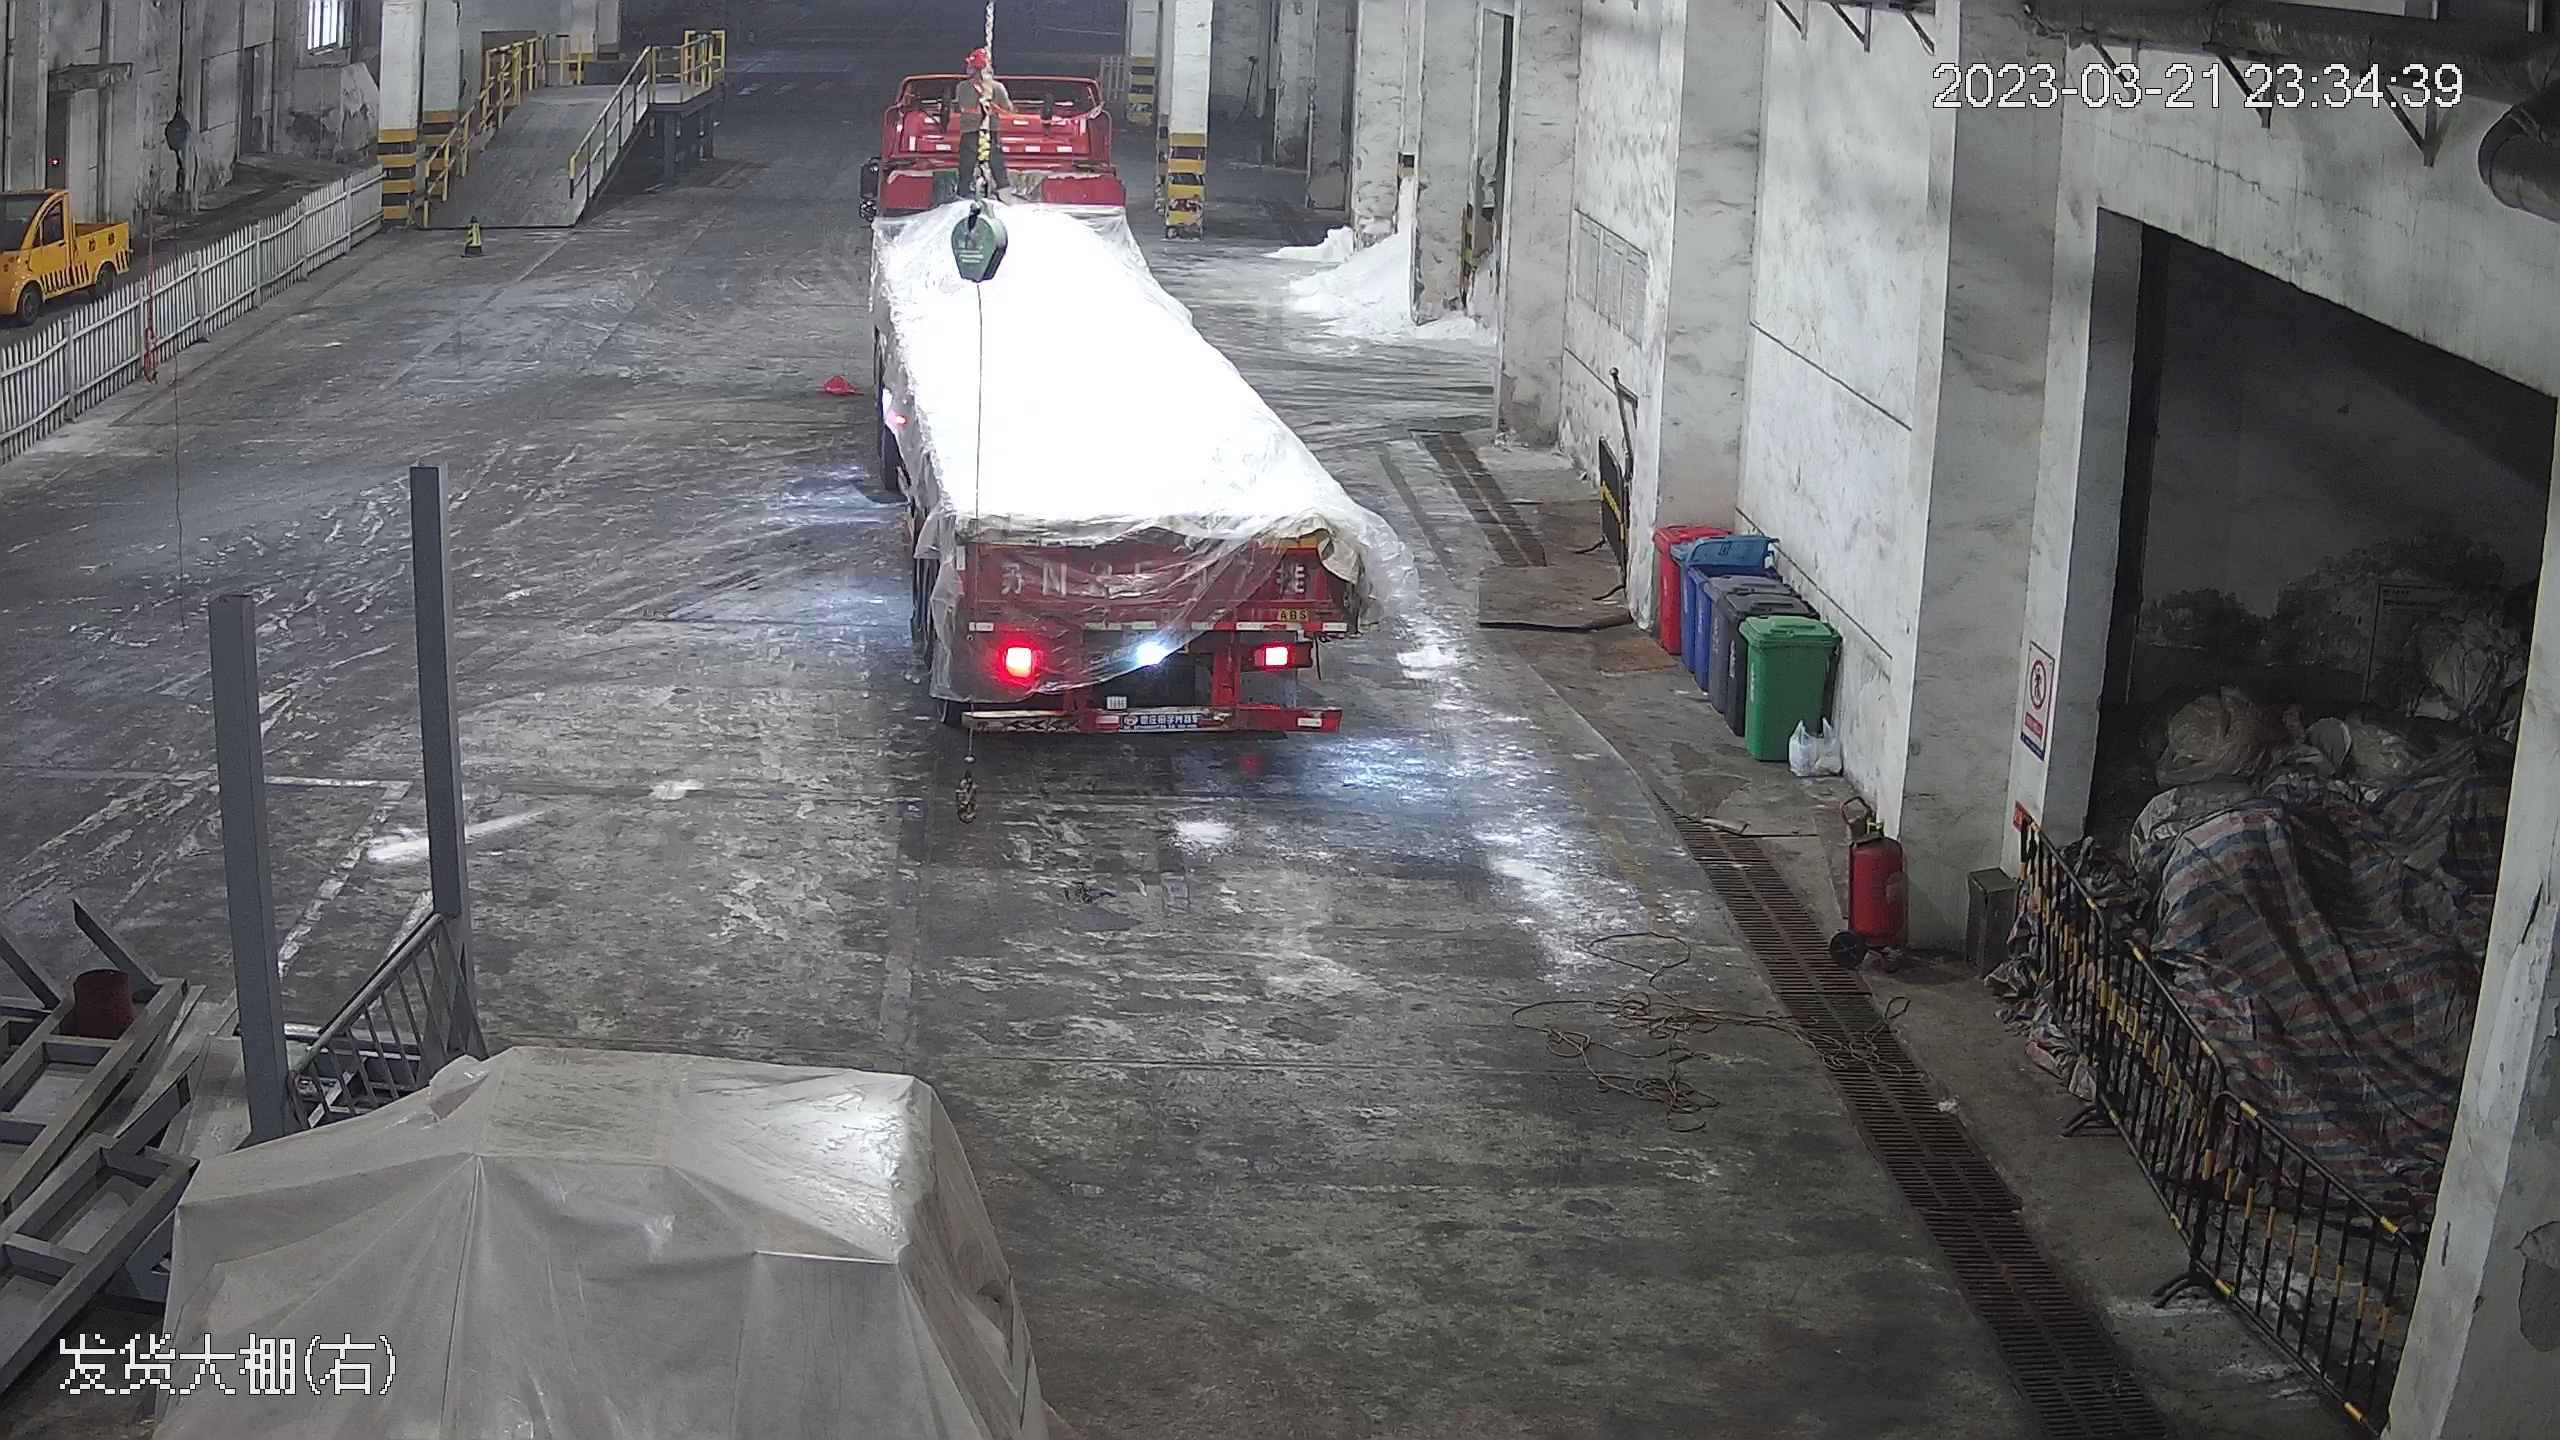belt: (960, 74, 1002, 124)
head: (953, 46, 1000, 101)
helmet: (959, 47, 987, 67)
people: (949, 48, 1015, 200)
truck: (859, 46, 1394, 754)
